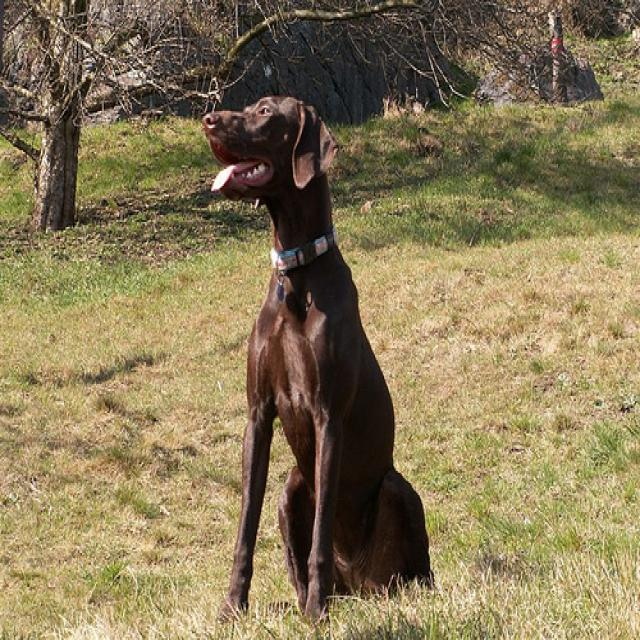dog-german_shorthaired: (200, 97, 438, 625)
